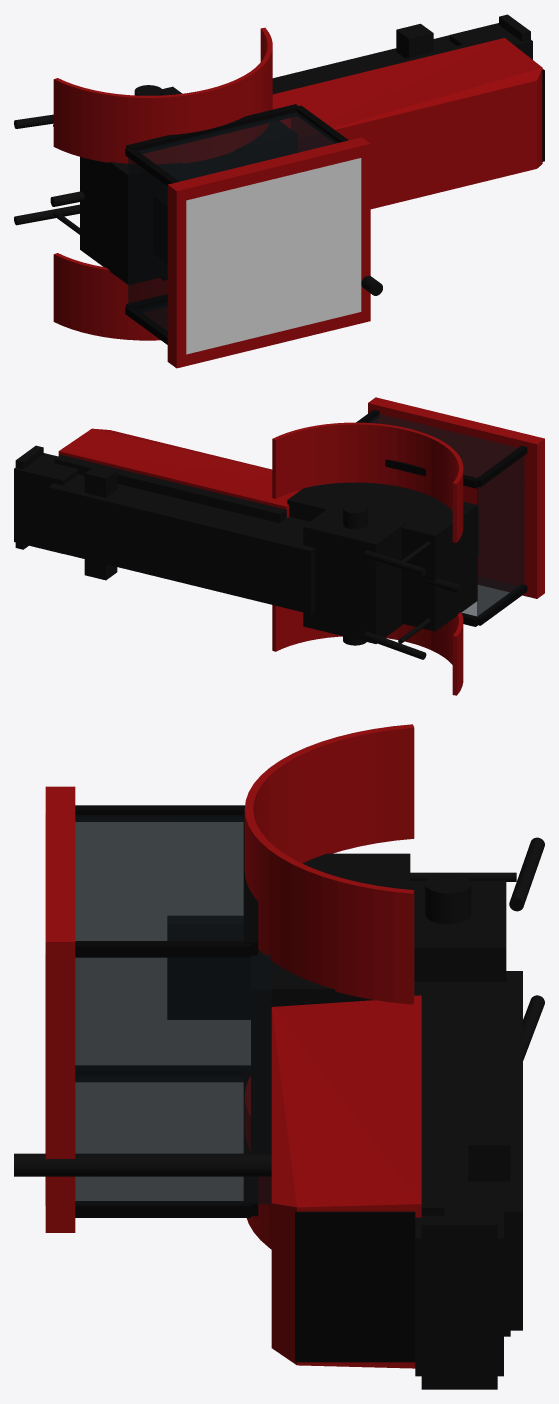
The model's file is body.obj.
3 renders of one model, top to bottom at view 1: azimuth 30°, elevation 25°; view 2: azimuth 150°, elevation 25°; view 3: azimuth 270°, elevation 25°, orthographic. The views are drawn at different scales.
Parts seen in each view (by area): view 1: mf_6713_body; view 2: mf_6713_body; view 3: mf_6713_body.
Part boxes in pixels (x1,y1,x2,y2): mf_6713_body: (14,14,544,368); mf_6713_body: (14,397,544,695); mf_6713_body: (14,724,544,1389).
Bounding box in the file's own units: 4.33 × 2.08 × 2.51.
